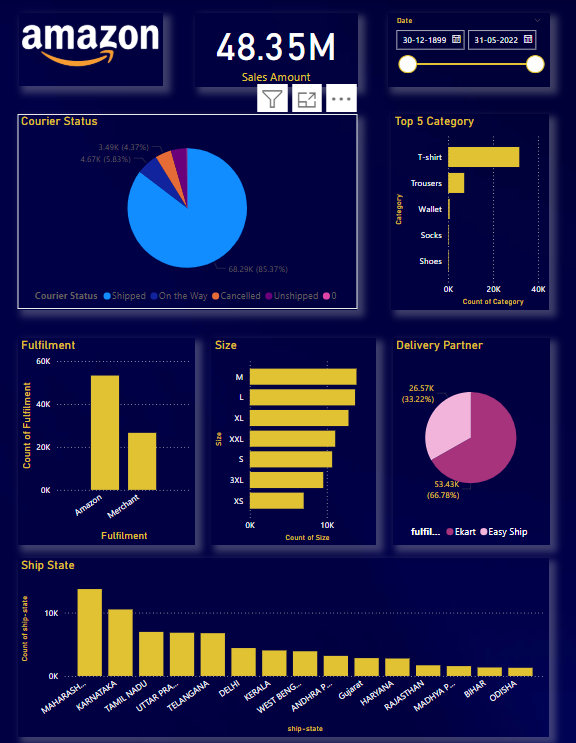

The page's visual inventory and layout, read from the dashboard file:
{"tool":"powerbi","page":{"name":"Page 1","canvas":[816,1056],"ordinal":0},"visuals":[{"type":"image","box":[26,20,205,104],"z":0},{"type":"card","fields":{"Values":["Sum(Amazon Sale Report.Amount)"]},"box":[276.7,20,230,104.4],"z":1000},{"type":"barChart","title":"Top 5 Category","fields":{"Category":["Amazon Sale Report.Category"],"Y":["CountNonNull(Amazon Sale Report.Category)"]},"box":[554.4,162.2,223.3,276.7],"z":2000},{"type":"pieChart","title":"Courier Status","fields":{"Category":["Amazon Sale Report.Courier Status"],"Y":["CountNonNull(Amazon Sale Report.Courier Status)"]},"box":[25.6,162.2,481.1,276.7],"z":3000},{"type":"pieChart","title":"Delivery Partner ","fields":{"Category":["Amazon Sale Report.fulfilled-by"],"Y":["CountNonNull(Amazon Sale Report.fulfilled-by)"]},"box":[555.6,480,222.2,293.3],"z":4000},{"type":"columnChart","title":"Fulfilment","fields":{"Category":["Amazon Sale Report.Fulfilment"],"Y":["CountNonNull(Amazon Sale Report.Fulfilment)"]},"box":[25.6,480,251.1,293.3],"z":5000},{"type":"barChart","title":"Size","fields":{"Category":["Amazon Sale Report.Size"],"Y":["CountNonNull(Amazon Sale Report.Size)"]},"box":[298.9,480,233.3,293.3],"z":6000},{"type":"clusteredColumnChart","title":"Ship State","fields":{"Category":["Amazon Sale Report.ship-state"],"Y":["CountNonNull(Amazon Sale Report.ship-state)"]},"box":[25.6,791.1,752.2,253.3],"z":7000},{"type":"slicer","fields":{"Values":["Amazon Sale Report.Date"]},"box":[547.8,20,230,104.4],"z":8000}]}

Visuals, with their boxes in screenshot pixels (x1, y1, x2, y2), scaled from the page's 816x1056 canvas onto the 576x743 screenshot:
image: select_region(18, 14, 163, 87)
card - Sum(Amazon Sale Report.Amount): select_region(195, 14, 358, 88)
"Top 5 Category" barChart: select_region(391, 114, 549, 309)
"Courier Status" pieChart: select_region(18, 114, 358, 309)
"Delivery Partner " pieChart: select_region(392, 338, 549, 544)
"Fulfilment" columnChart: select_region(18, 338, 195, 544)
"Size" barChart: select_region(211, 338, 376, 544)
"Ship State" clusteredColumnChart: select_region(18, 557, 549, 735)
slicer - Amazon Sale Report.Date: select_region(387, 14, 549, 88)
